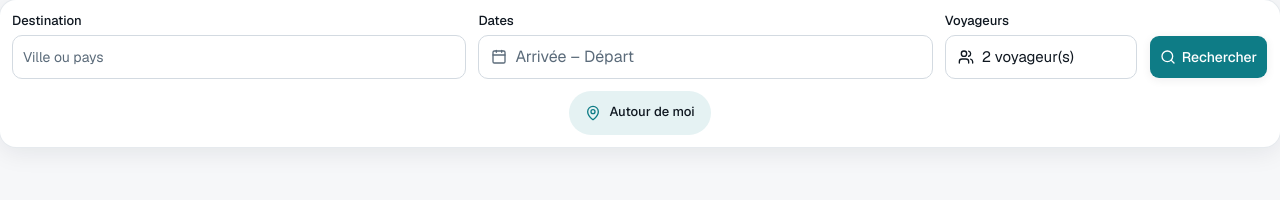
SearchBar — Autour de moi (géoloc, FR-2) › sans dates → erreurs, la géoloc n'est PAS déclenchée, pas de navigation
Click the button with test id "search-near-me" at coordinates (640, 113), box [569,91,710,135]
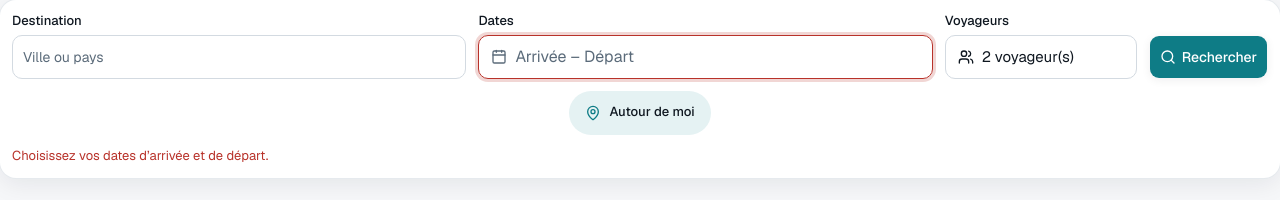
Check: the message "Choisissez vos dates d’arrivée et de départ." is shown, box [12,147,268,164]
